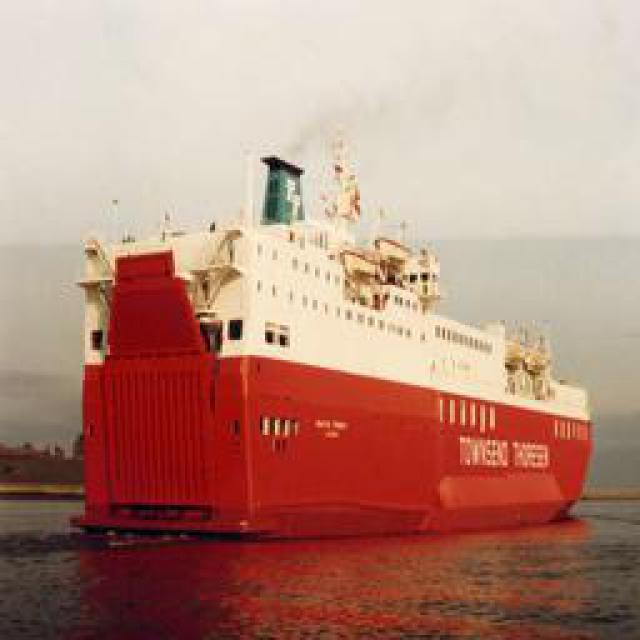Ship: (53, 125, 609, 552)
